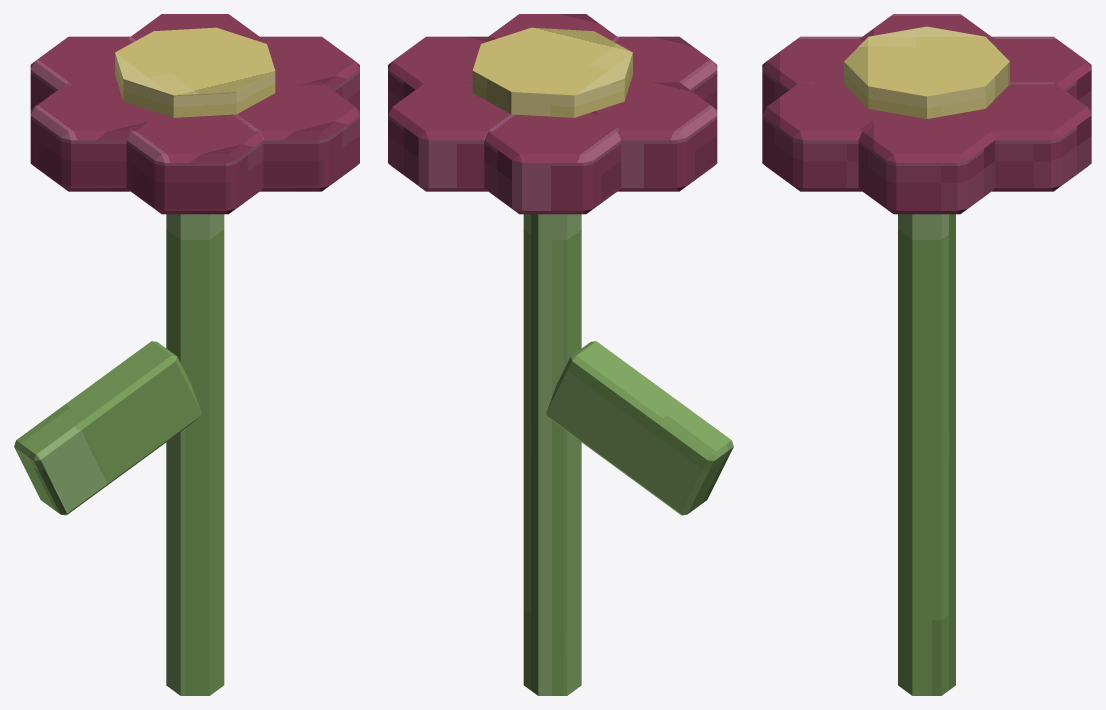
Rendered from flower_rose.glb.
3 renders of one model, left to right at view 1: azimuth 30°, elevation 25°; view 2: azimuth 150°, elevation 25°; view 3: azimuth 270°, elevation 25°, orthographic.
Parts seen in each view (by area): view 1: Stem, LeafL, Petal_4, FlowerCenter, Petal_3, Petal_5, Petal_0, Petal_2, Petal_1; view 2: Stem, LeafL, Petal_2, FlowerCenter, Petal_3, Petal_1, Petal_0, Petal_4, Petal_5; view 3: Stem, Petal_0, FlowerCenter, Petal_1, Petal_5, Petal_4, Petal_2, Petal_3.
Boxes of the visible parts, <box> form: Stem: <box>166,214,224,695</box>; LeafL: <box>14,341,201,515</box>; Petal_4: <box>126,112,263,214</box>; FlowerCenter: <box>115,27,275,117</box>; Petal_3: <box>30,82,159,191</box>; Petal_5: <box>233,82,359,191</box>; Petal_0: <box>252,36,359,109</box>; Petal_2: <box>30,36,133,109</box>; Petal_1: <box>128,14,258,41</box>; Stem: <box>523,214,581,695</box>; LeafL: <box>546,341,733,515</box>; Petal_2: <box>484,111,621,214</box>; FlowerCenter: <box>472,27,632,117</box>; Petal_3: <box>589,82,717,191</box>; Petal_1: <box>388,82,515,191</box>; Petal_0: <box>388,36,495,109</box>; Petal_4: <box>610,36,717,109</box>; Petal_5: <box>489,14,619,41</box>; Stem: <box>898,214,955,695</box>; Petal_0: <box>858,111,995,214</box>; FlowerCenter: <box>844,26,1009,118</box>; Petal_1: <box>963,82,1091,191</box>; Petal_5: <box>762,82,891,191</box>; Petal_4: <box>762,36,865,109</box>; Petal_2: <box>986,36,1091,109</box>; Petal_3: <box>860,14,993,40</box>.
Bounding box in the file's own units: 0.4462 × 0.83 × 0.3972.
1 material, 1 textured.
